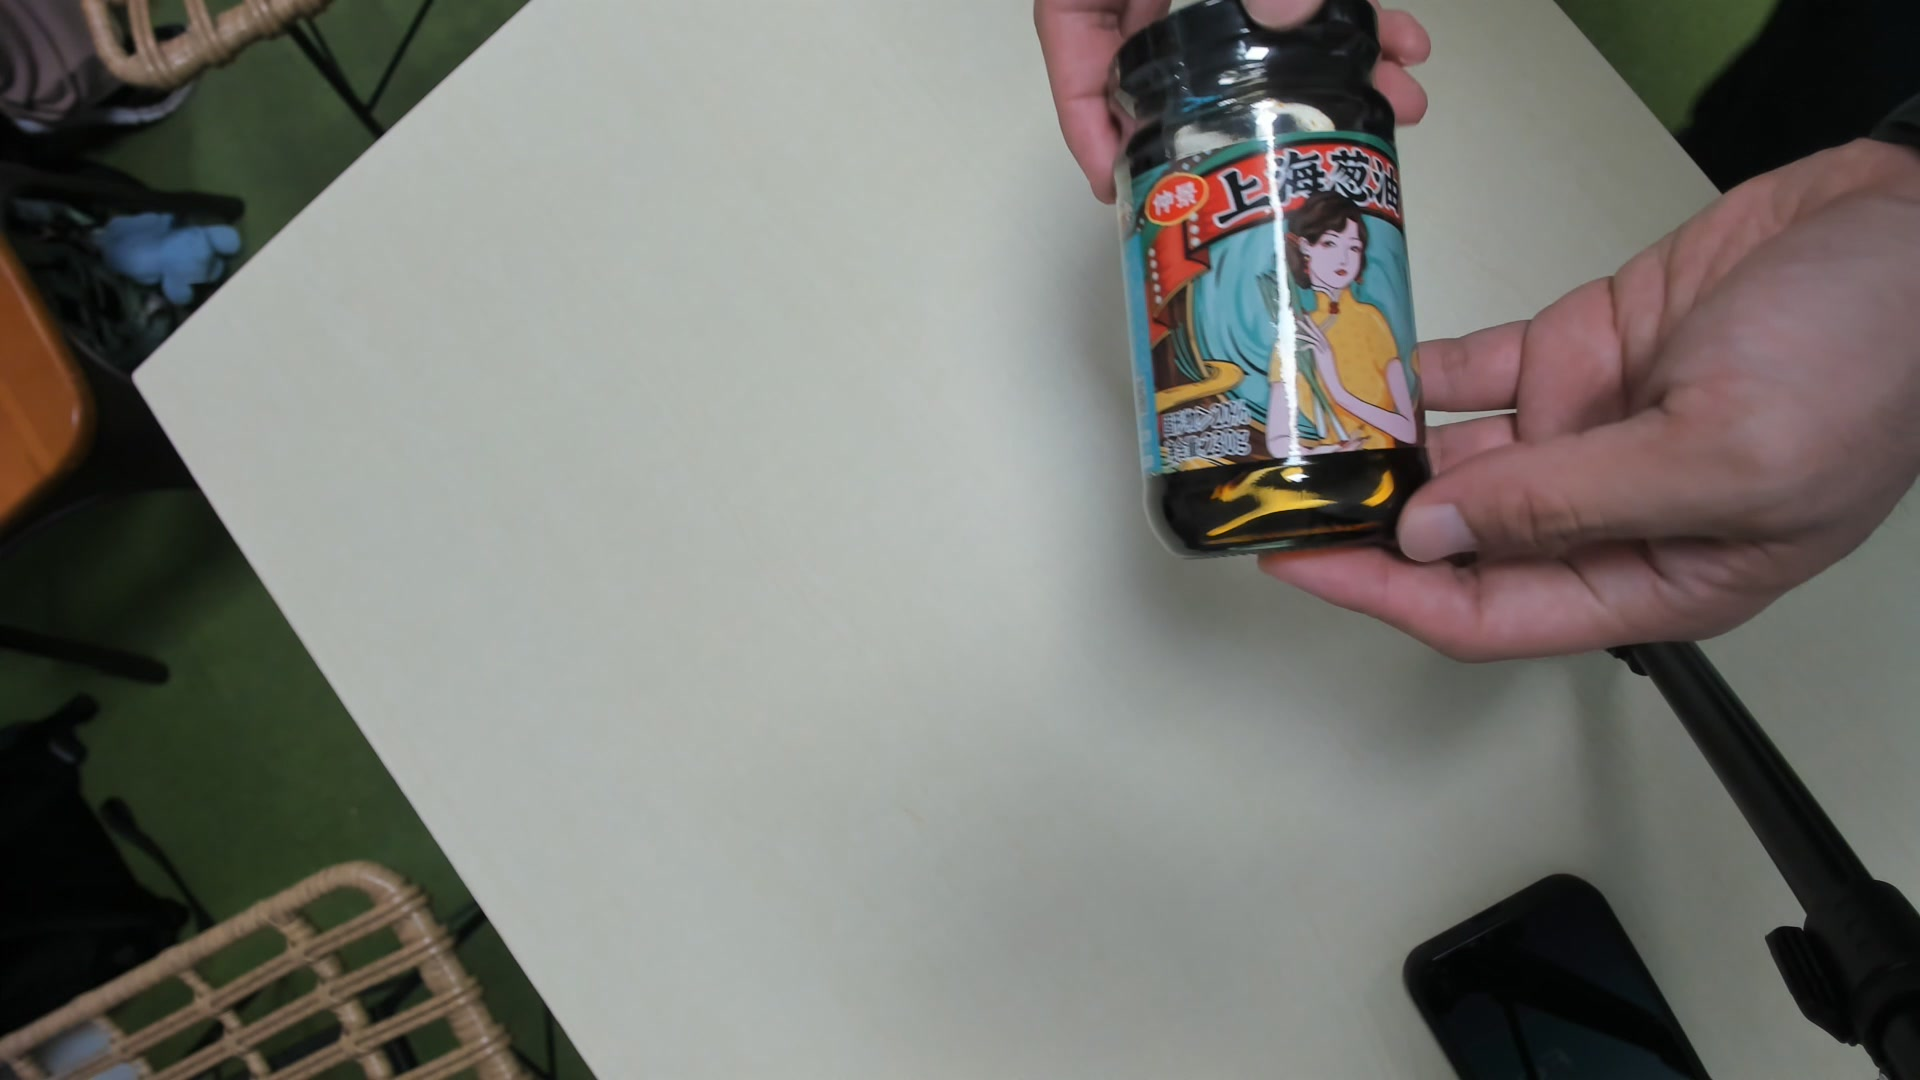OtherSauceDressing_200-299g_NonHalal_NonHealthy: (1112, 5, 1433, 556)
